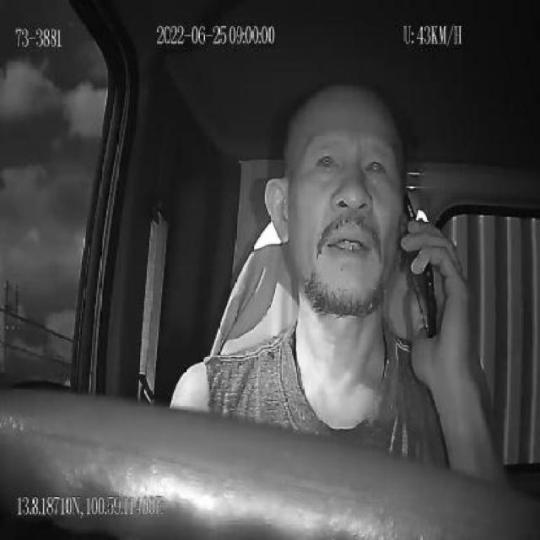phone: (400, 187, 438, 341)
